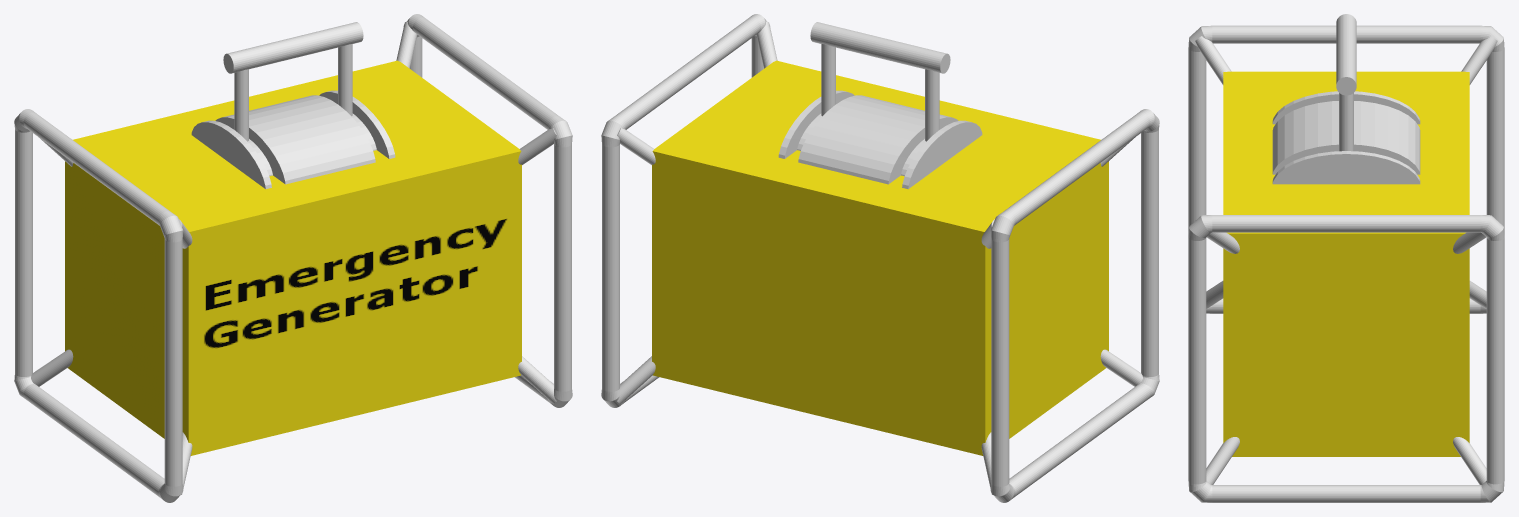
File: generator.fbx
3 renders of one model, left to right at view 1: azimuth 30°, elevation 25°; view 2: azimuth 150°, elevation 25°; view 3: azimuth 270°, elevation 25°, orthographic.
Parts seen in each view (by area): view 1: Cube.046, Cylinder.069, Cylinder.072, Cylinder.070, Cylinder.071; view 2: Cube.046, Cylinder.069, Cylinder.072, Cylinder.070, Cylinder.071; view 3: Cube.046, Cylinder.069, Cylinder.072, Cylinder.070, Cylinder.071.
Part boxes in pixels (<box>): Cube.046: <box>65,60,521,455</box>; Cylinder.069: <box>14,14,572,502</box>; Cylinder.072: <box>191,90,395,189</box>; Cylinder.070: <box>223,22,363,73</box>; Cylinder.071: <box>234,44,352,141</box>; Cube.046: <box>652,60,1108,455</box>; Cylinder.069: <box>601,14,1159,502</box>; Cylinder.072: <box>778,90,982,189</box>; Cylinder.070: <box>810,22,950,73</box>; Cylinder.071: <box>821,44,939,141</box>; Cube.046: <box>1223,71,1469,456</box>; Cylinder.069: <box>1188,25,1504,502</box>; Cylinder.072: <box>1272,91,1420,184</box>; Cylinder.070: <box>1336,14,1356,95</box>; Cylinder.071: <box>1339,93,1353,151</box>.
Bounding box in the file's own units: 627 × 536 × 424.
